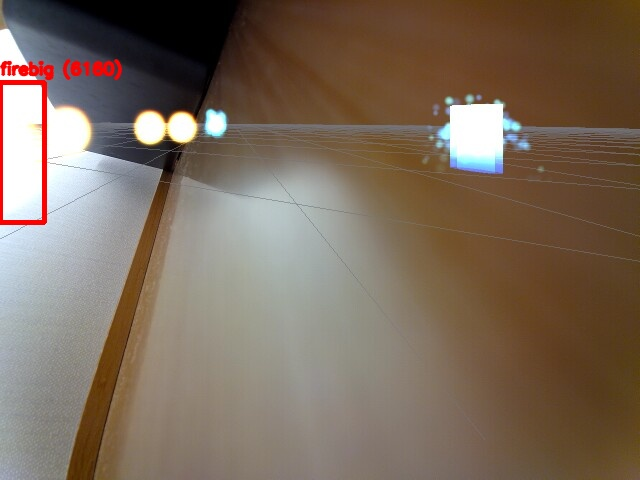firebig: (0, 82, 44, 222)
